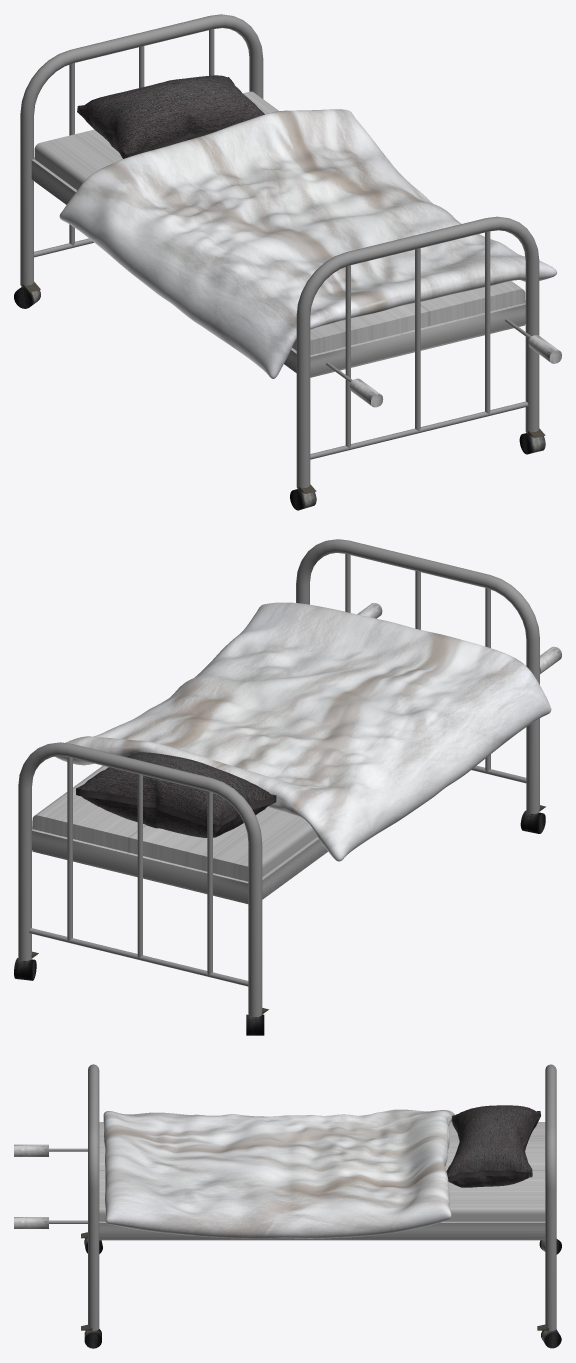
Rendered from Hospital Bed.FBX.
3 renders of one model, top to bottom at view 1: azimuth 30°, elevation 25°; view 2: azimuth 150°, elevation 25°; view 3: azimuth 270°, elevation 25°, orthographic. The views are drawn at different scales.
Visible parts, largest first — view 1: Plane001, Box001, Box004, Line002, Line008, Line001, Line007, Line003, Line005, Line006, Line004; view 2: Plane001, Box001, Box004, Line008, Line007, Line002, Line001, Line009, Line010, Line011, Line012; view 3: Plane001, Box001, Box004, Line001, Line007, Box003, Box002, Line008, Line002.
Part boxes in pixels (x1=…): Plane001: x1=59, y1=109, x2=556, y2=378; Box001: x1=31, y1=91, x2=525, y2=377; Box004: x1=77, y1=75, x2=264, y2=158; Line002: x1=296, y1=235, x2=421, y2=489; Line008: x1=20, y1=33, x2=145, y2=286; Line001: x1=416, y1=216, x2=539, y2=433; Line007: x1=140, y1=14, x2=263, y2=98; Line003: x1=310, y1=401, x2=528, y2=459; Line005: x1=415, y1=248, x2=420, y2=431; Line006: x1=485, y1=231, x2=490, y2=414; Line004: x1=345, y1=265, x2=350, y2=448; Plane001: x1=55, y1=602, x2=551, y2=861; Box001: x1=32, y1=765, x2=327, y2=903; Box004: x1=76, y1=752, x2=276, y2=837; Line008: x1=137, y1=761, x2=262, y2=1017; Line007: x1=18, y1=742, x2=140, y2=960; Line002: x1=414, y1=557, x2=539, y2=813; Line001: x1=296, y1=539, x2=418, y2=604; Line009: x1=29, y1=928, x2=248, y2=986; Line010: x1=207, y1=791, x2=212, y2=975; Line011: x1=137, y1=774, x2=142, y2=957; Line012: x1=67, y1=757, x2=72, y2=940; Plane001: x1=103, y1=1109, x2=455, y2=1238; Box001: x1=99, y1=1122, x2=545, y2=1240; Box004: x1=446, y1=1105, x2=540, y2=1187; Line001: x1=88, y1=1097, x2=99, y2=1330; Line007: x1=545, y1=1097, x2=556, y2=1330; Box003: x1=14, y1=1144, x2=48, y2=1156; Box002: x1=14, y1=1217, x2=48, y2=1228; Line008: x1=545, y1=1064, x2=556, y2=1101; Line002: x1=88, y1=1064, x2=99, y2=1101.
Bounding box in the file's own units: 47.31 × 38.06 × 93.51.
8 materials, 7 textured.
